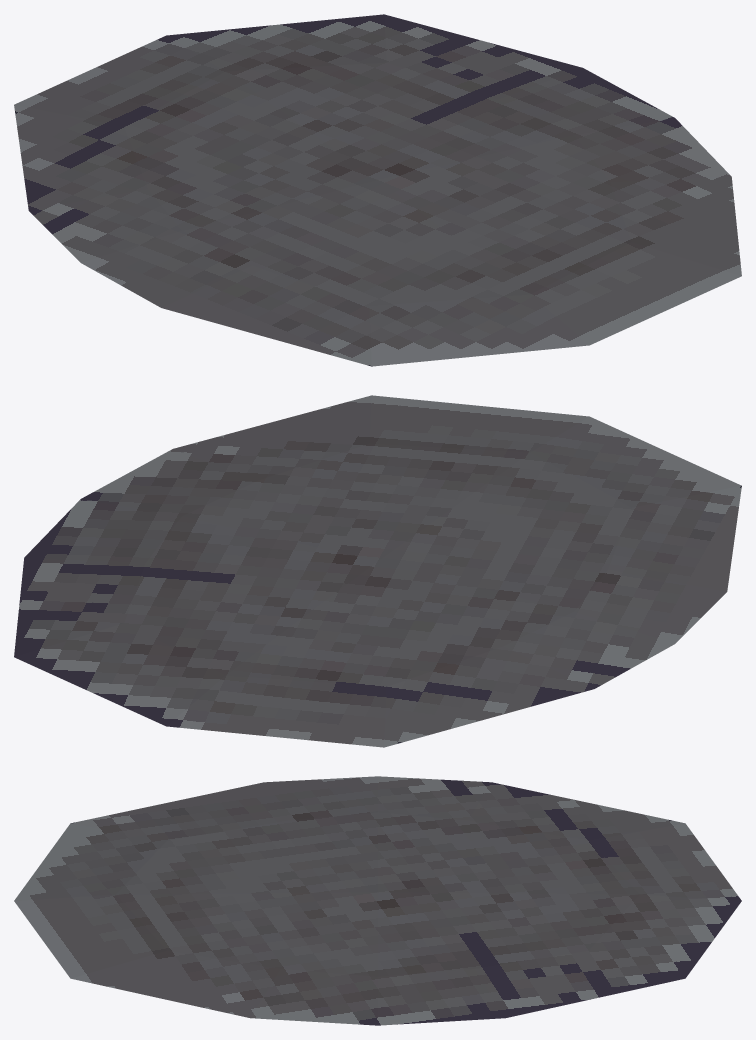
File: carpet2.fbx
3 views of the same model, one above another, from view 1: azimuth 30°, elevation 25°; view 2: azimuth 150°, elevation 25°; view 3: azimuth 270°, elevation 25° (orthographic). The views are drawn at different scales.
Parts seen in each view (by area): view 1: Cube; view 2: Cube; view 3: Cube.
Boxes of the visible parts, x1,y1,x2,y2 form: Cube: (14, 14, 741, 366); Cube: (14, 395, 741, 747); Cube: (14, 776, 741, 1025).
Bounding box in the file's own units: 304 × 10.03 × 375.
Materials: 1 (1 with a texture image).
